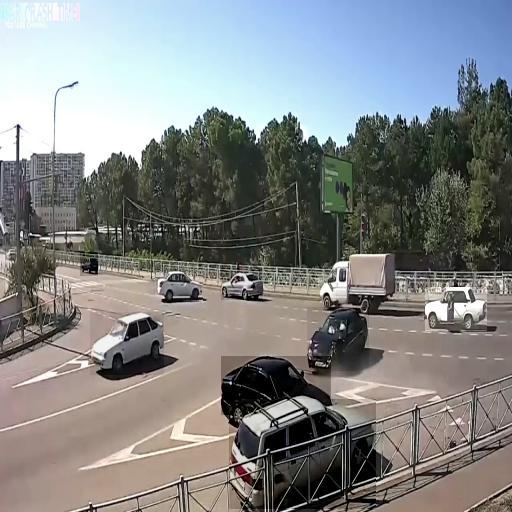小汽车: (229, 400, 376, 510), (221, 356, 331, 415), (90, 312, 164, 375), (318, 253, 396, 310), (308, 307, 370, 371), (425, 288, 487, 332), (155, 272, 203, 302), (221, 268, 263, 300), (80, 252, 98, 276)
